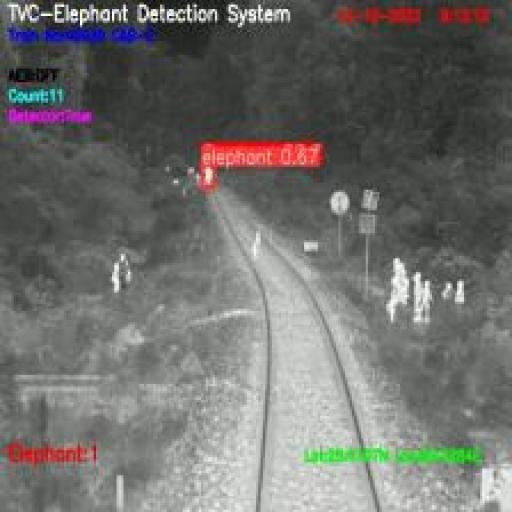Elephant: (201, 164, 214, 188)
